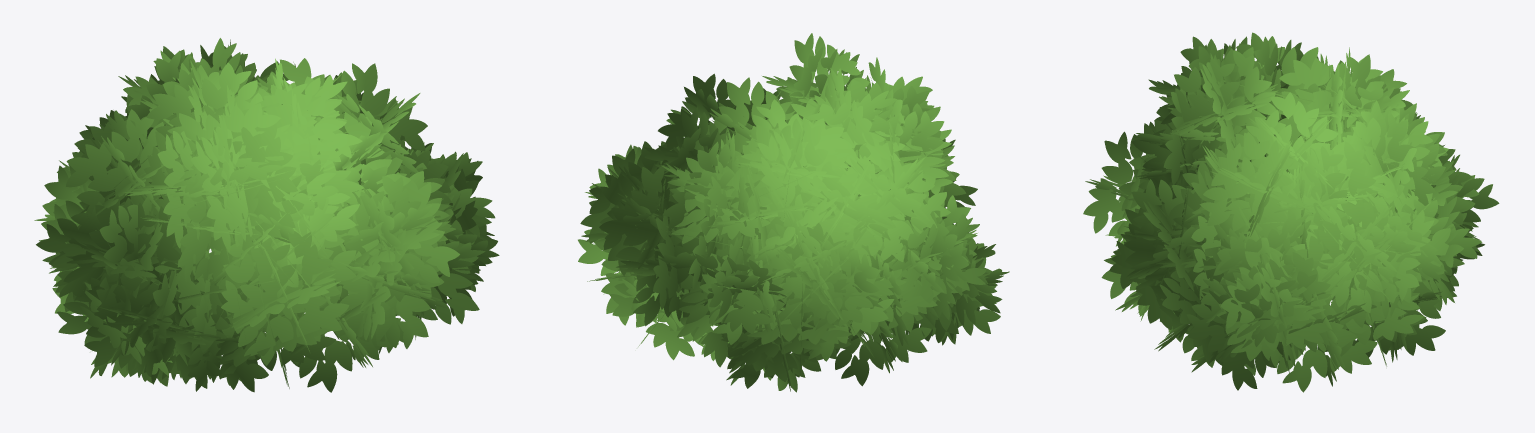
The model's file is SM_Nature_Bush_02.fbx.
The picture shows the model from 3 angles, left to right: view 1: azimuth 30°, elevation 25°; view 2: azimuth 150°, elevation 25°; view 3: azimuth 270°, elevation 25°; orthographic projection. The views are drawn at different scales.
Parts seen in each view (by area): view 1: Bush_02_LOD0; view 2: Bush_02_LOD0; view 3: Bush_02_LOD0.
Part boxes in pixels (x1,y1,x2,y2): Bush_02_LOD0: (34, 38, 499, 392); Bush_02_LOD0: (578, 33, 1009, 392); Bush_02_LOD0: (1083, 32, 1499, 392).
Size of the model in its own units: 214 by 152 by 197.
